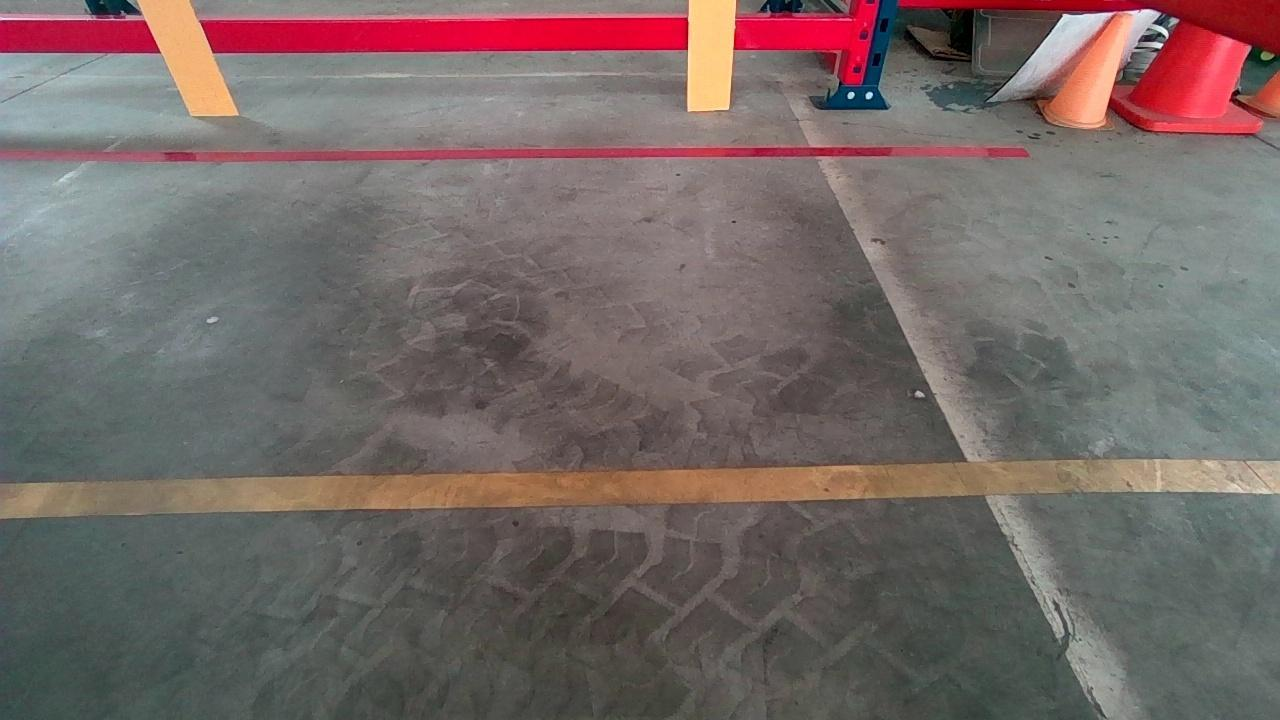orange_strip: (138, 0, 237, 112), (688, 0, 735, 107)
red_line: (0, 142, 1031, 158)
